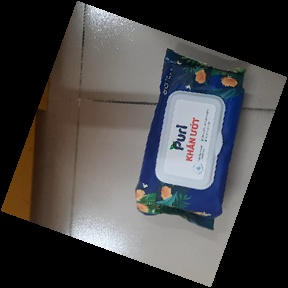Puri Xanh: (132, 46, 251, 231)
